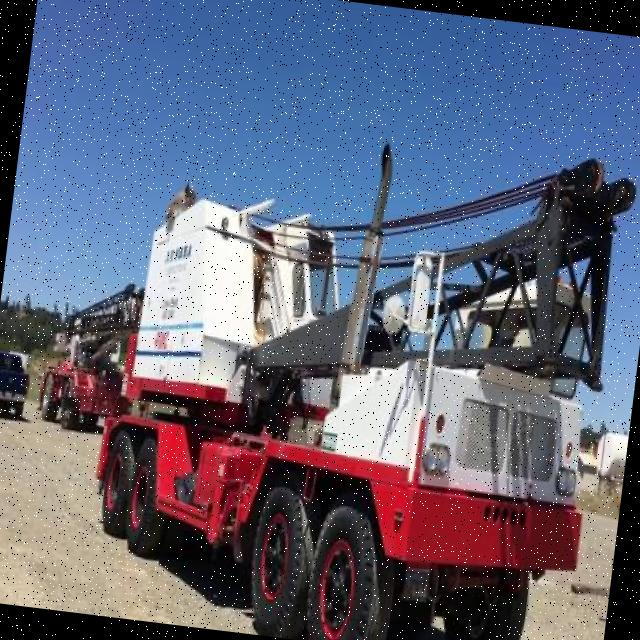Mobile Crane: (90, 104, 640, 640), (39, 273, 140, 437)
